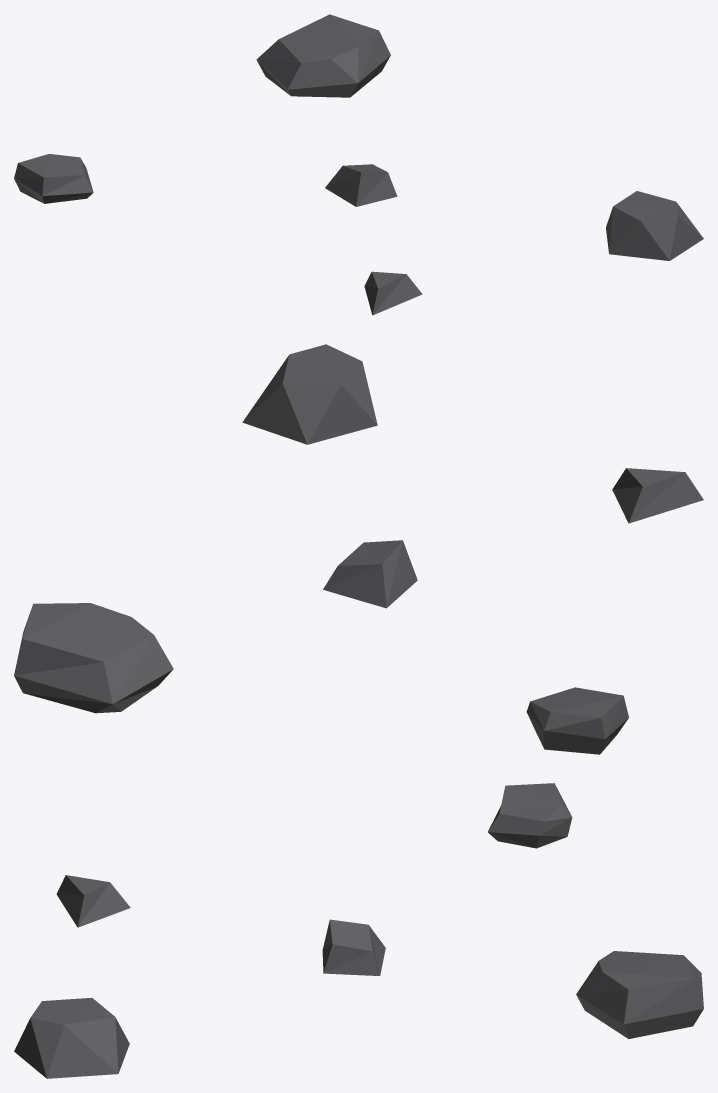
Rendered from TB_Env_Stone_Set2_C.FBX.
3 views of the same model, one above another, from view 1: azimuth 30°, elevation 25°; view 2: azimuth 150°, elevation 25°; view 3: azimuth 270°, elevation 25° (orthographic). The views are drawn at different scales.
Parts seen in each view (by area): view 1: TB_Env_Stone_Set2_C; view 2: TB_Env_Stone_Set2_C; view 3: TB_Env_Stone_Set2_C.
Boxes of the visible parts, box(x1,y1,x2,y2) form: TB_Env_Stone_Set2_C: box(14, 14, 703, 315); TB_Env_Stone_Set2_C: box(14, 344, 703, 754); TB_Env_Stone_Set2_C: box(14, 783, 703, 1078).
Size of the model in its own units: 2.69 by 0.2286 by 2.97.
